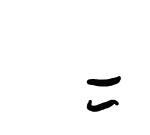eqv: (81, 73, 122, 112)
